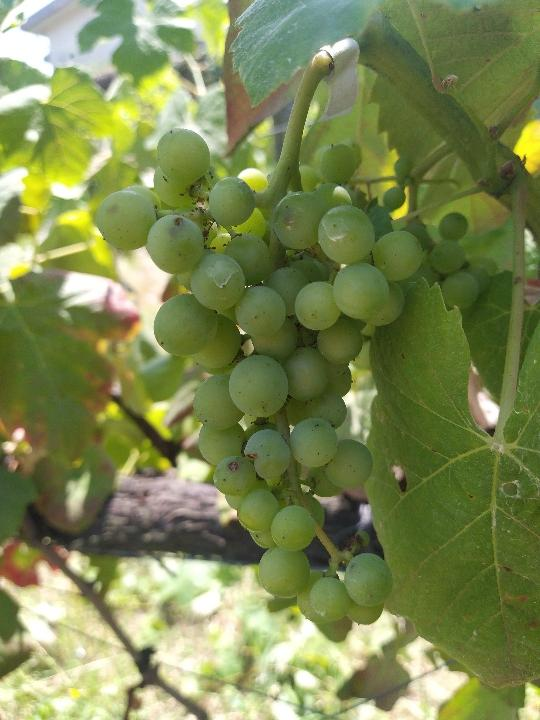grape: (89, 124, 427, 631)
